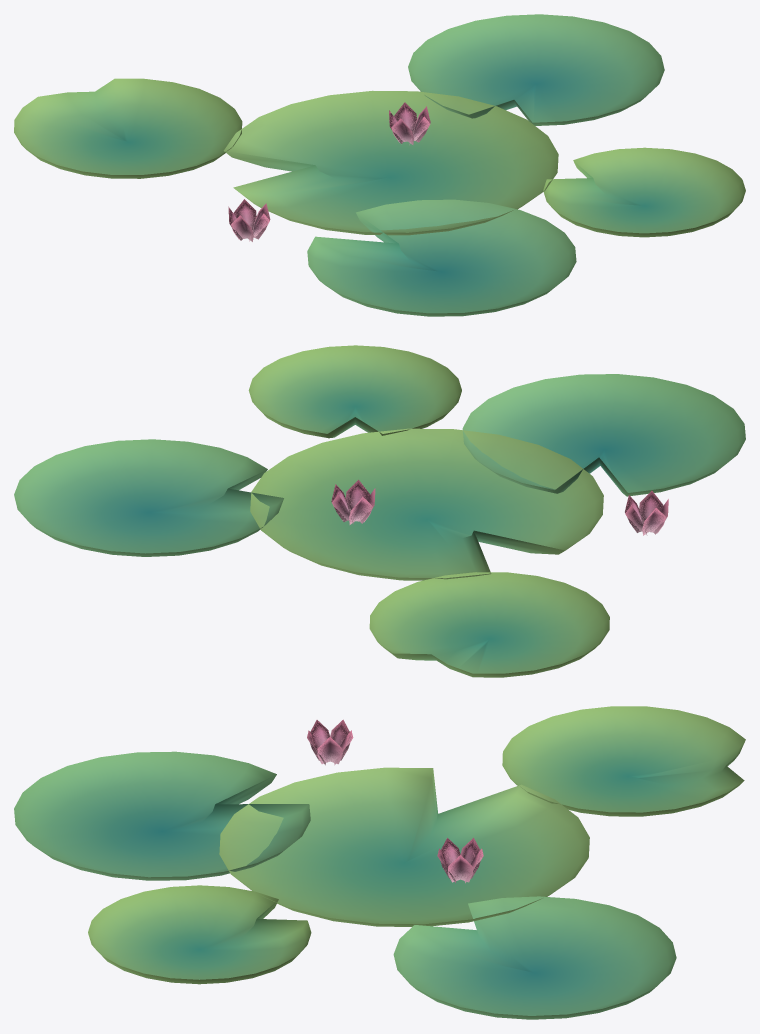
The model's file is verdant_ground_lilypads.glb.
3 renders of one model, top to bottom at view 1: azimuth 30°, elevation 25°; view 2: azimuth 150°, elevation 25°; view 3: azimuth 270°, elevation 25°, orthographic. The views are drawn at different scales.
Parts seen in each view (by area): view 1: verdant_ground_lilypads; view 2: verdant_ground_lilypads; view 3: verdant_ground_lilypads.
Part boxes in pixels (x1,y1,x2,y2): verdant_ground_lilypads: (14, 14, 745, 316); verdant_ground_lilypads: (14, 345, 745, 677); verdant_ground_lilypads: (14, 706, 745, 1019).
Bounding box in the file's own units: 1.97 × 0.1273 × 1.96.
